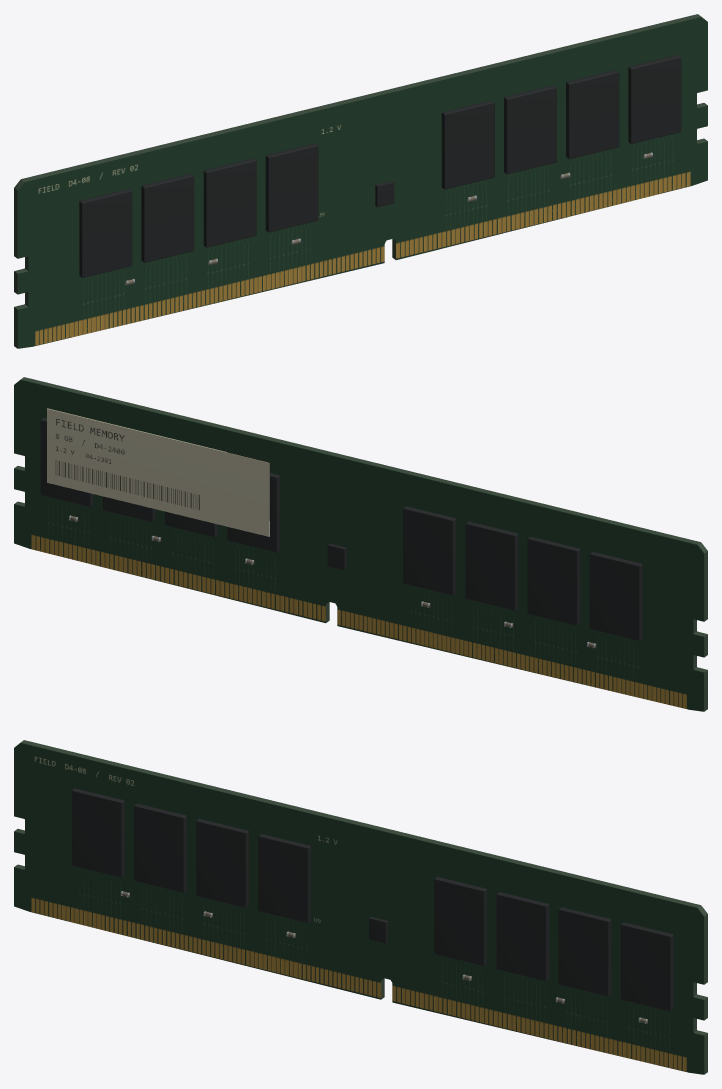
Rendered from PC_RAM_LOD0.fbx.
3 renders of one model, top to bottom at view 1: azimuth 30°, elevation 25°; view 2: azimuth 150°, elevation 25°; view 3: azimuth 330°, elevation 25°, orthographic.
Visible parts, largest first — view 1: Body_LOD0; view 2: Body_LOD0; view 3: Body_LOD0.
Part boxes in pixels (bbox=[...]): Body_LOD0: bbox=[14, 14, 707, 348]; Body_LOD0: bbox=[14, 377, 707, 711]; Body_LOD0: bbox=[14, 740, 707, 1074].
Size of the model in its own units: 0.1333 by 0.0312 by 0.00386.
